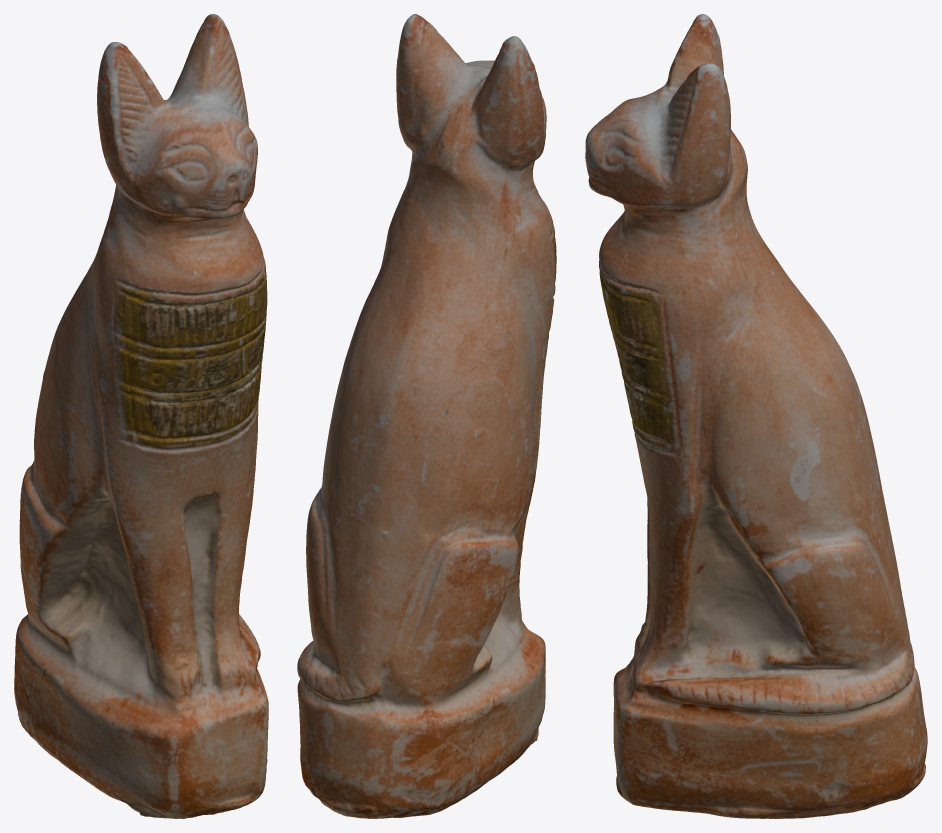
The model's file is egyptian_cat.glb.
3 renders of one model, left to right at view 1: azimuth 30°, elevation 25°; view 2: azimuth 150°, elevation 25°; view 3: azimuth 270°, elevation 25°, orthographic. The views are drawn at different scales.
Visible parts, largest first — view 1: Stereo textured mesh; view 2: Stereo textured mesh; view 3: Stereo textured mesh.
Boxes of the visible parts, x1=… form: Stereo textured mesh: x1=14, y1=14, x2=268, y2=818; Stereo textured mesh: x1=297, y1=14, x2=556, y2=818; Stereo textured mesh: x1=585, y1=14, x2=927, y2=818.
Size of the model in its own units: 0.2251 by 0.8366 by 0.3498.
1 material, 1 textured.
